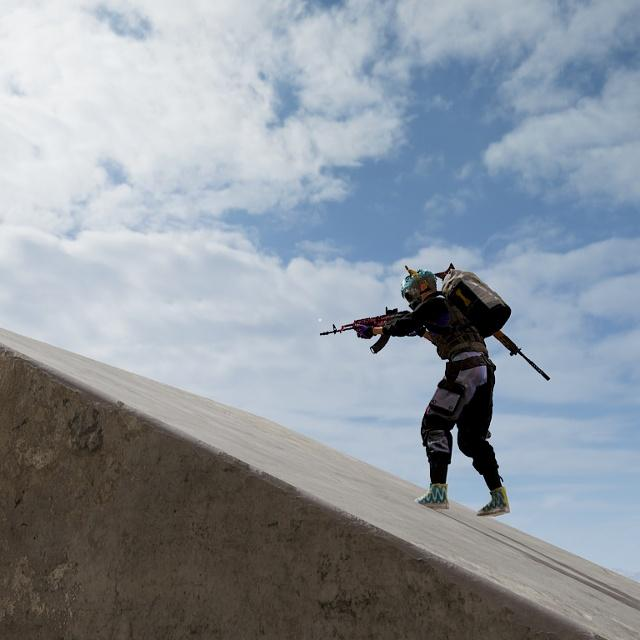head: (398, 265, 441, 313)
people: (390, 263, 521, 520)
